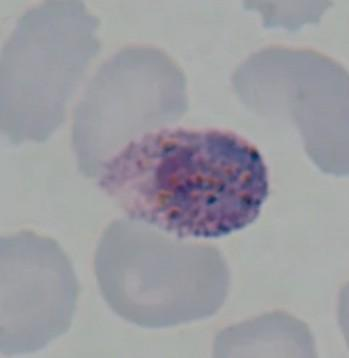Infected: (97, 127, 271, 240)
Uninfected: (233, 39, 349, 178), (91, 213, 231, 328), (76, 47, 190, 179), (0, 0, 95, 148), (0, 228, 79, 358)
